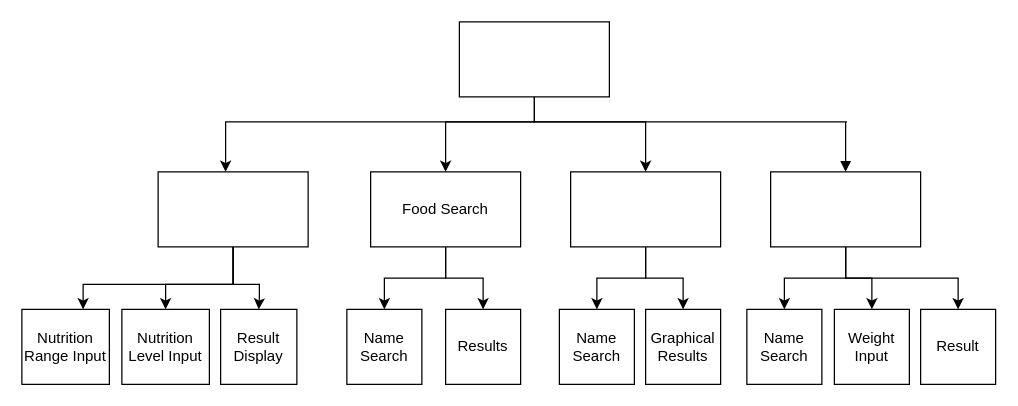
Some shapes in this 1018 by 406 pixel diagram are drawn without their labels. The centre of each missing label's shape, as x and y in pixels:
"Home Page" goes at point (533, 59).
"Nutrition Breakdown" goes at point (645, 209).
"Nutrition Filter" goes at point (232, 209).
"Weight Calculator" goes at point (845, 209).
